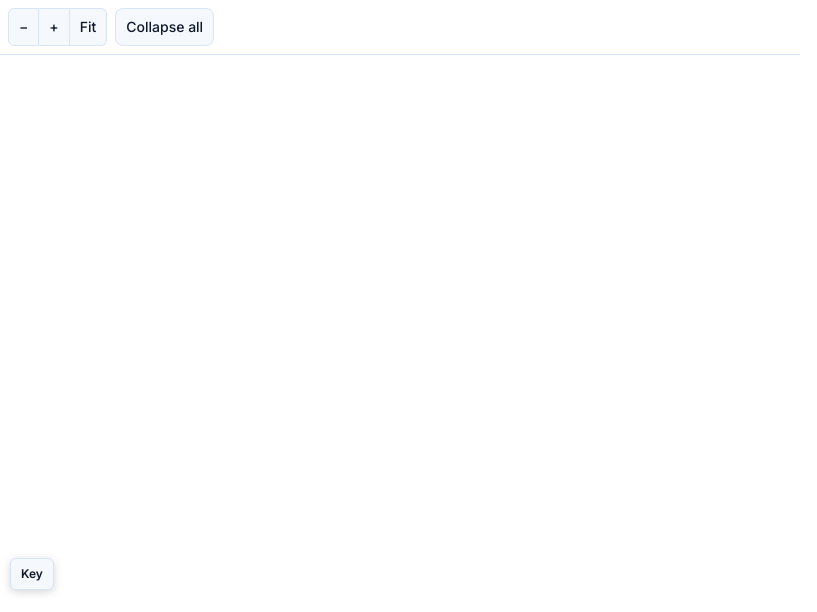
Test: DependencyMap › explains every box, color and line in a key opened from the bottom-left button
What coordinates should you click on to do the following:
click the button "Key"
I would click on:
 (32, 574)
Its box is [10, 558, 54, 590].
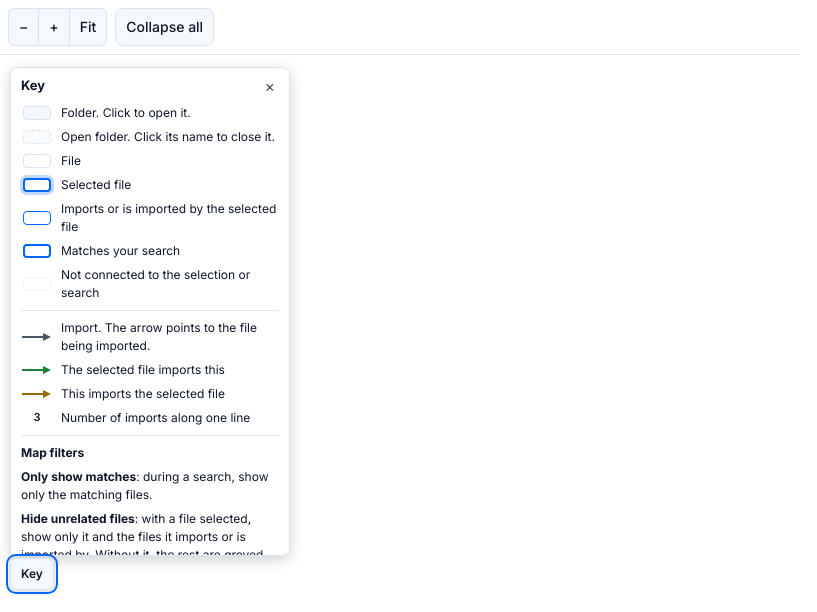
Now the element named "Map key" shows "Folder. Click to open it.", box [61, 104, 191, 120]
Now the element named "Map key" shows "Open folder. Click its name to close it.", box [61, 128, 275, 144]
Now the element named "Map key" shows "Selected file", box [61, 176, 131, 192]
